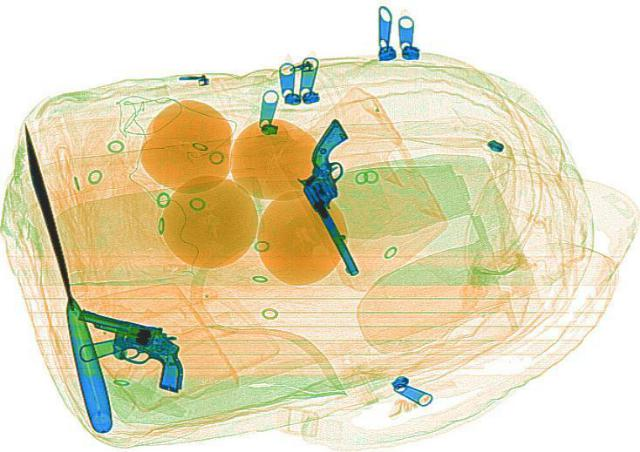Gun: (268, 116, 414, 274), (49, 304, 214, 391)
Knife: (6, 121, 116, 431)
